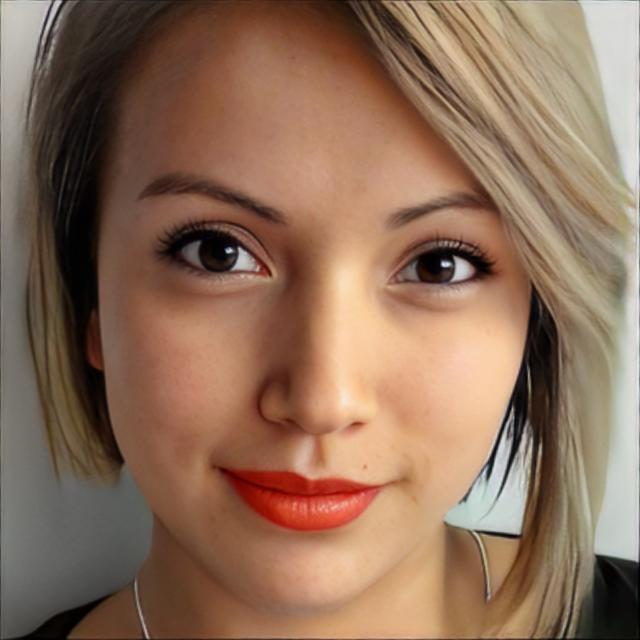content: (104, 0, 531, 611)
